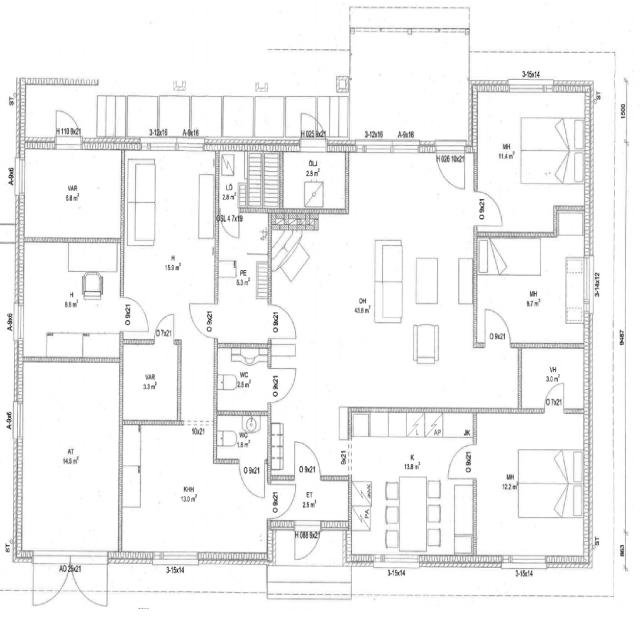door: (72, 552, 111, 614), (32, 550, 72, 610), (434, 141, 469, 193), (473, 186, 507, 230), (481, 305, 514, 348), (291, 438, 324, 481), (119, 294, 152, 336), (53, 105, 84, 149), (444, 441, 477, 482), (266, 364, 298, 406), (295, 108, 327, 150), (187, 300, 220, 338), (238, 458, 267, 499), (293, 521, 321, 563), (270, 303, 300, 342), (542, 380, 568, 414), (152, 312, 177, 344), (219, 210, 242, 242)
window: (354, 136, 424, 160), (506, 75, 556, 98), (151, 548, 201, 568), (372, 553, 424, 572), (500, 553, 550, 572), (139, 137, 191, 154), (582, 252, 596, 315), (11, 398, 26, 446), (13, 299, 26, 346), (15, 154, 28, 200), (173, 138, 205, 154)
zone: (348, 146, 480, 412), (17, 358, 124, 556), (271, 208, 348, 479), (349, 412, 477, 564), (123, 424, 266, 558), (474, 414, 588, 563), (474, 88, 588, 232), (348, 28, 471, 145), (125, 150, 217, 298), (474, 236, 588, 348), (18, 240, 122, 360), (20, 147, 124, 242), (216, 211, 272, 351), (120, 342, 182, 424), (519, 346, 588, 412), (218, 144, 283, 213), (281, 149, 348, 212), (216, 352, 272, 414), (214, 413, 270, 462), (238, 458, 267, 500), (268, 483, 297, 519)
